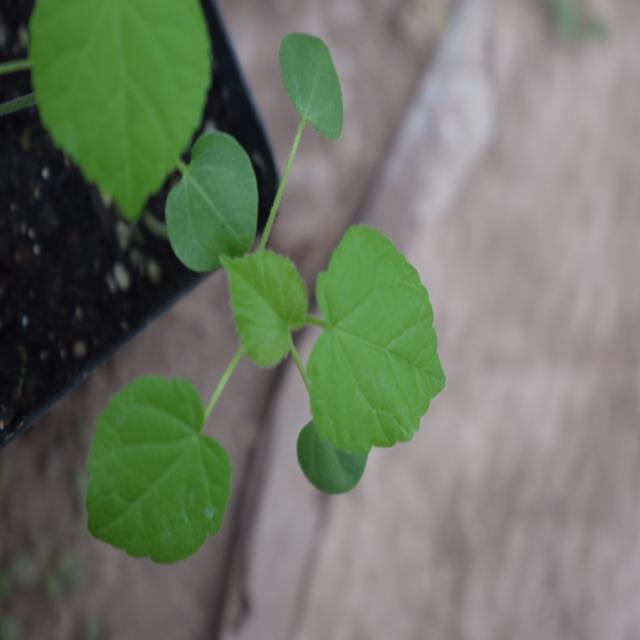abutilon theophrasti: (73, 117, 448, 578)
